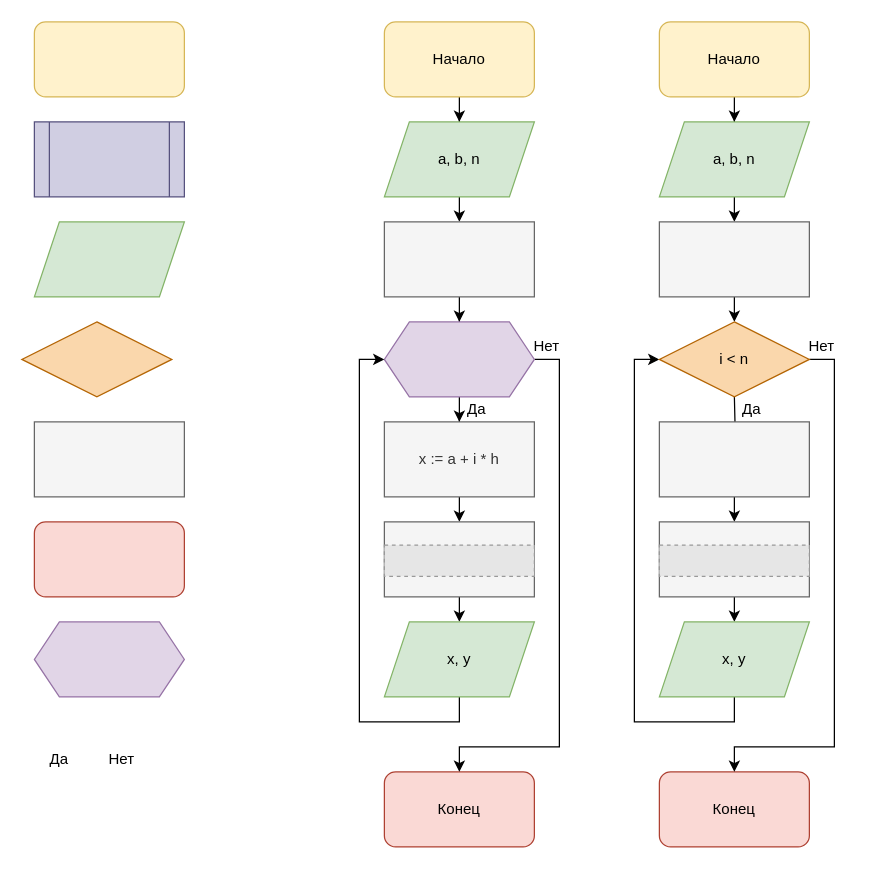
Some shapes in this 869 by 869 pixel diagram are drawn without their labels. Grey dashed boxes stand in for pictures. Here are the shapes that lost their labels. From the top down, the centre of each, then its label:
the point at 458,259: h := (b - a) / n
the point at 733,259: h := (b - a) / n i := 0
the point at 458,359: i := 0; i < n; i := i + 1
the point at 733,459: x := a + i * h i := i + 1
